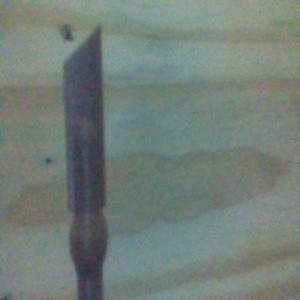cutter: (60, 23, 110, 300)
